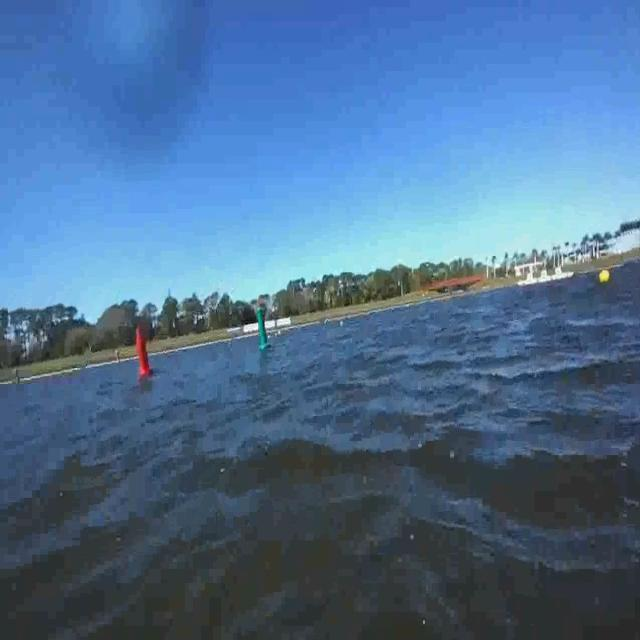green-column-buoy: (248, 299, 279, 352)
red-column-buoy: (128, 323, 166, 377)
